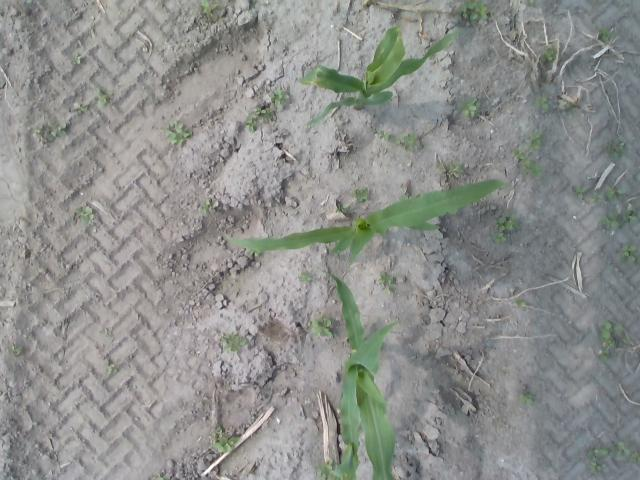Maize: (222, 179, 502, 264), (297, 28, 452, 131), (323, 270, 398, 480)
Weeds: (456, 0, 488, 27), (513, 150, 539, 176), (310, 317, 334, 340), (168, 121, 190, 146), (600, 322, 622, 341), (222, 334, 248, 350), (45, 123, 67, 140), (608, 140, 626, 158), (402, 135, 422, 150), (461, 98, 478, 115), (602, 212, 620, 228), (76, 205, 92, 223), (588, 446, 608, 460), (442, 162, 462, 176), (213, 437, 234, 450), (614, 442, 628, 458), (498, 216, 514, 230), (620, 246, 637, 259), (540, 46, 554, 61), (271, 89, 283, 106), (530, 130, 542, 147), (625, 208, 638, 223), (203, 0, 219, 12), (95, 88, 108, 102), (380, 272, 395, 284), (354, 189, 369, 200), (537, 95, 548, 109), (572, 188, 587, 198), (74, 103, 90, 112), (590, 191, 604, 201), (606, 186, 623, 194), (104, 359, 114, 372), (9, 345, 21, 355), (299, 272, 311, 282), (518, 394, 533, 402), (600, 30, 611, 40), (73, 52, 82, 64), (248, 118, 256, 131), (36, 124, 46, 134), (201, 201, 211, 211), (379, 130, 388, 140), (590, 463, 600, 471), (632, 452, 640, 462), (600, 350, 611, 357), (322, 460, 333, 467), (254, 108, 266, 114), (498, 234, 506, 242), (216, 427, 223, 434), (516, 301, 524, 307)
